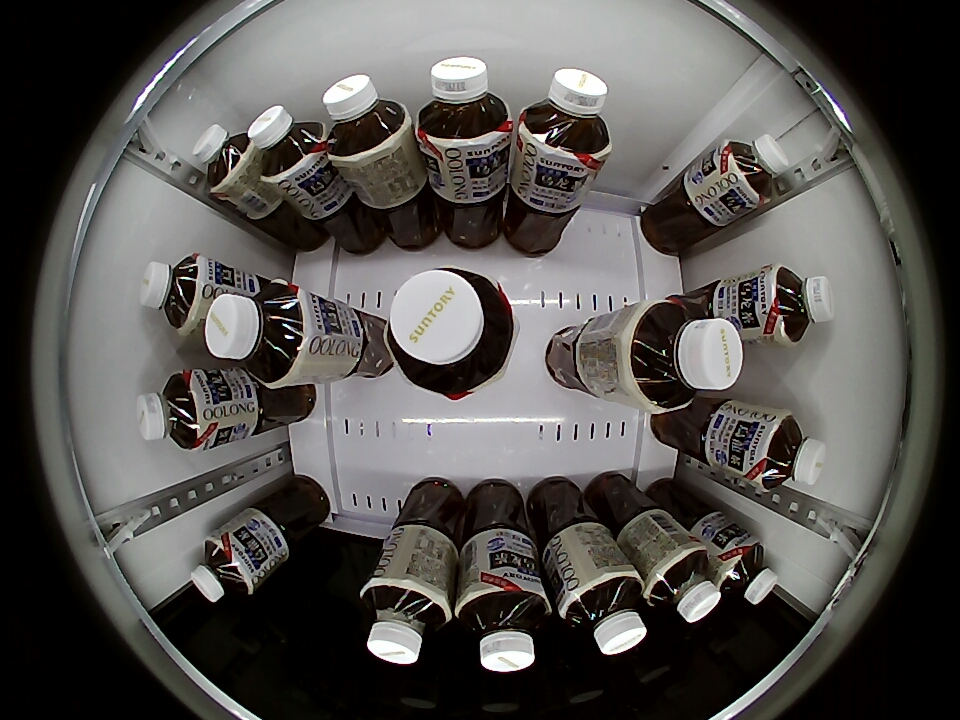wulongcha: (386, 266, 515, 397), (627, 297, 743, 411), (205, 283, 309, 386), (517, 67, 611, 167), (417, 55, 511, 148), (361, 574, 453, 665), (456, 585, 551, 673), (556, 568, 648, 656), (322, 73, 411, 162), (744, 410, 827, 491), (135, 369, 216, 451), (139, 254, 216, 337), (643, 545, 722, 624), (247, 104, 327, 182), (761, 264, 836, 344), (715, 134, 790, 208), (190, 533, 256, 603), (714, 536, 778, 605), (193, 124, 256, 193)
